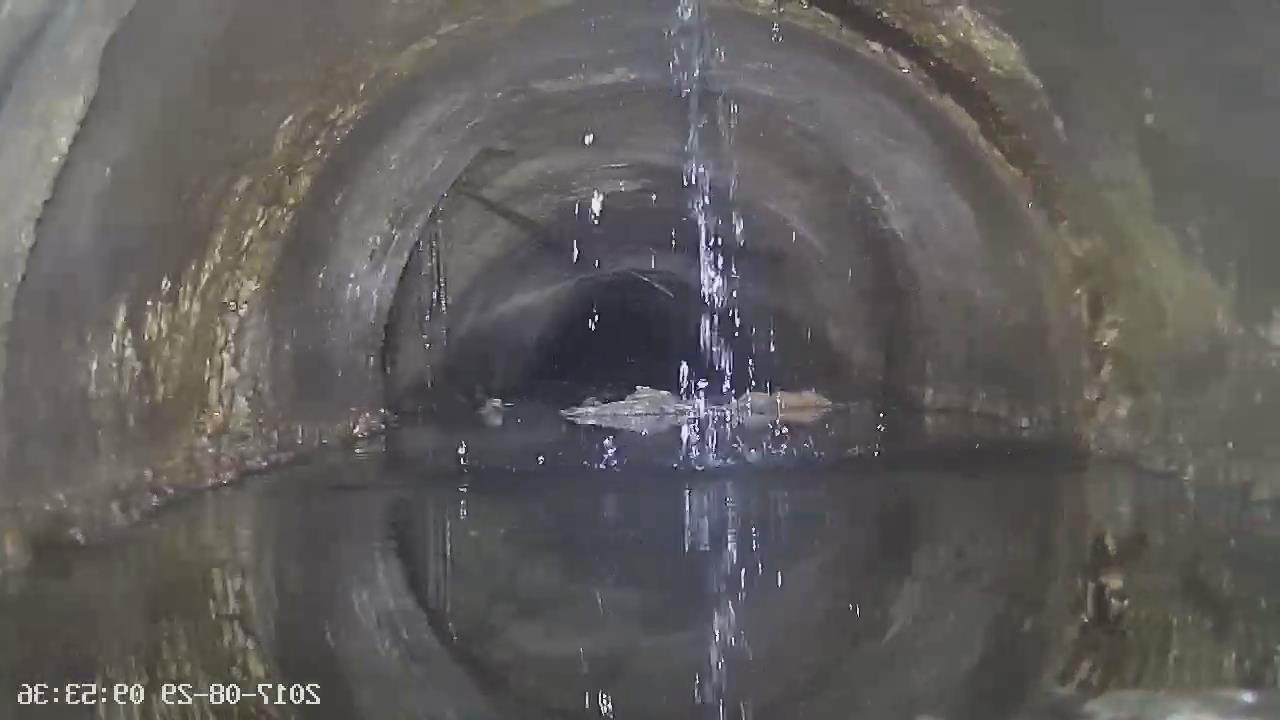SL: (626, 1, 816, 470), (382, 186, 465, 443)
